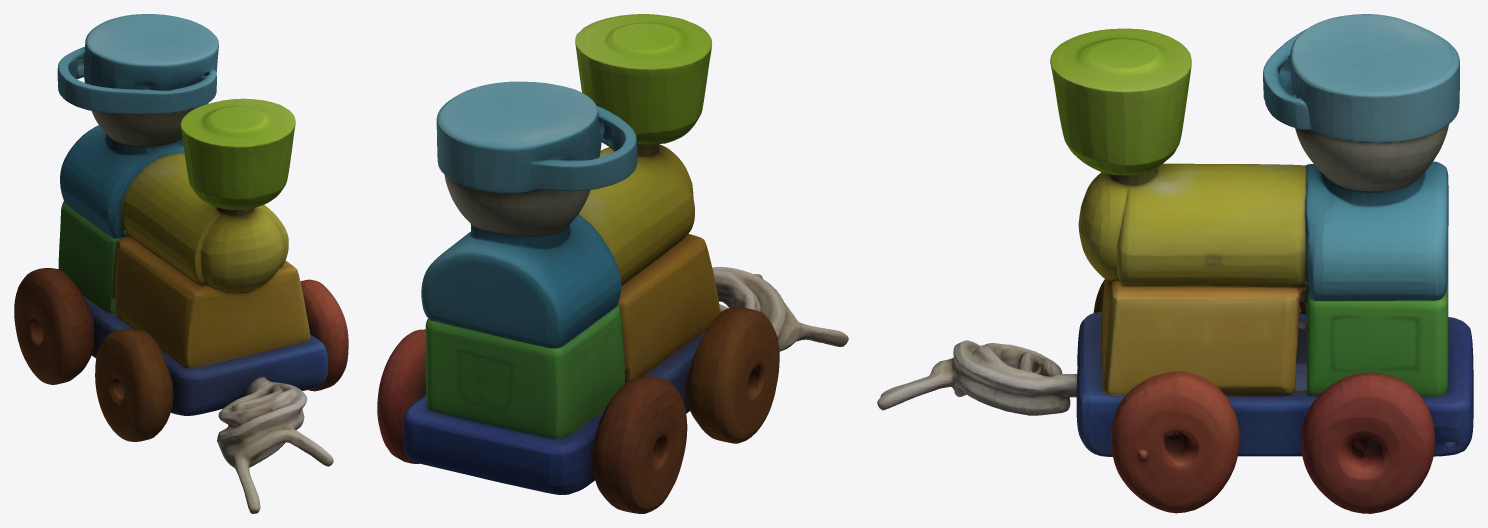
The model's file is stream3d.glb.
The picture shows the model from 3 angles, left to right: view 1: azimuth 30°, elevation 25°; view 2: azimuth 150°, elevation 25°; view 3: azimuth 270°, elevation 25°; orthographic projection. The views are drawn at different scales.
Visible parts, largest first — view 1: world; view 2: world; view 3: world.
Boxes of the visible parts, box(x1,y1,x2,y2) form: world: box(14, 14, 348, 513); world: box(377, 14, 848, 513); world: box(877, 14, 1473, 513).
Bounding box in the file's own units: 0.5589 × 0.758 × 1.
